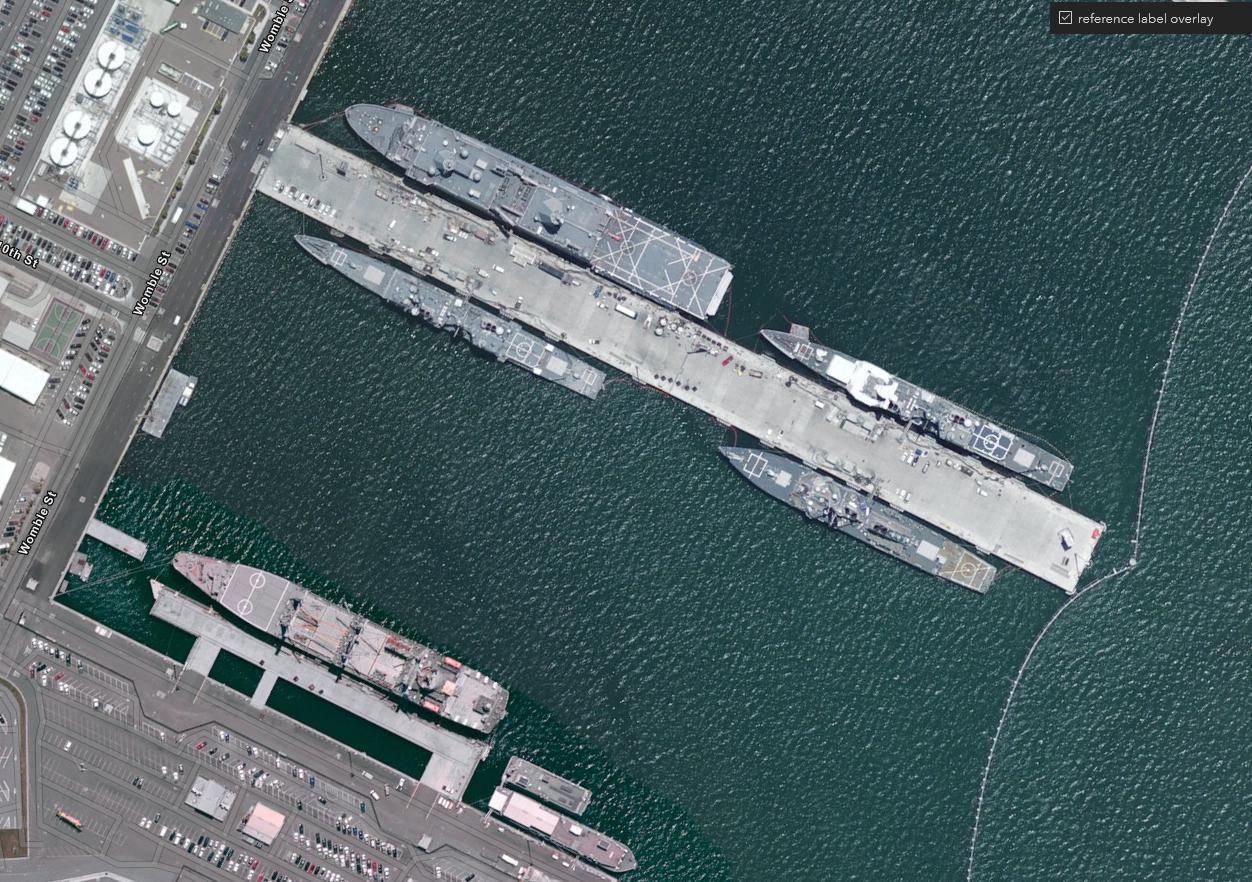amphiby: (334, 94, 735, 321)
destroyer: (287, 228, 611, 405), (759, 321, 1080, 499)
fregate: (714, 443, 1001, 598)
supply: (167, 549, 513, 743)
